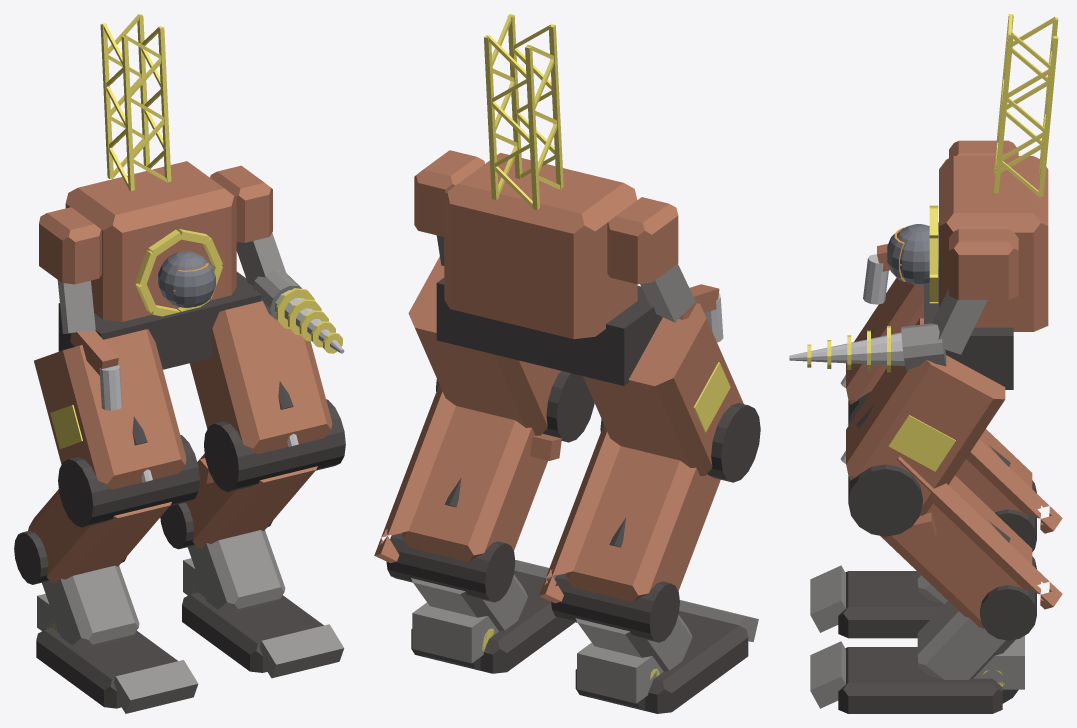
Rendered from driller.glb.
The picture shows the model from 3 angles, left to right: view 1: azimuth 30°, elevation 25°; view 2: azimuth 150°, elevation 25°; view 3: azimuth 270°, elevation 25°; orthographic projection. The views are drawn at different scales.
Visible parts, largest first — view 1: torso, thigh1, thigh-1, shin-1, meta-1, meta1, knee1, knee-1, hips, foot-1_sole, foot1_sole, shin1 (+22 smaller); view 2: torso, shin-1, shin1, thigh-1, hips, thigh1, foot-1_sole, shoulder-1, hock-1, hock1, foot1_sole, foot-1_housing (+14 smaller); view 3: thigh1, torso, shin1, foot1_sole, foot-1_sole, shoulder1, shin-1, meta1, knee1, thigh-1, hips, hock1 (+14 smaller).
Boxes of the visible parts, x1,y1,x2,y2 form: torso: (65,161,236,321); thigh1: (190,301,332,483); thigh-1: (34,329,186,489); shin-1: (28,489,171,583); meta-1: (42,565,139,648); meta1: (187,530,285,612); knee1: (204,399,345,491); knee-1: (58,435,199,527); hips: (58,271,261,369); foot-1_sole: (36,628,177,708); foot1_sole: (182,592,323,672); shin1: (186,454,317,548); torso: (444,153,637,339); shin-1: (539,425,720,603); shin1: (374,384,547,563); thigh-1: (583,303,743,475); hips: (436,278,662,385); thigh1: (408,256,561,460); foot-1_sole: (575,610,748,713); shoulder-1: (607,197,678,284); hock-1: (551,573,679,642); hock1: (386,533,515,602); foot1_sole: (411,570,574,673); foot-1_housing: (577,642,663,703); thigh1: (846,318,1005,542); torso: (939,156,1048,331); shin1: (880,456,1062,628); foot1_sole: (838,647,1002,713); foot-1_sole: (838,571,944,638); shoulder1: (949,229,1018,299); shin-1: (955,429,1062,533); meta1: (917,601,1015,679); knee1: (848,464,922,536); thigh-1: (846,277,923,404); hips: (924,279,1013,389); hock1: (980,556,1036,640).
Size of the model in its own units: 12.48 by 27.98 by 10.98.
